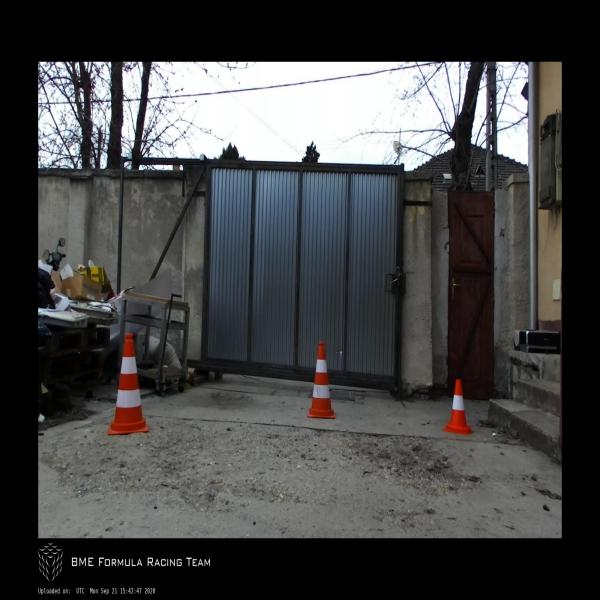large_orange_cone: (108, 334, 148, 434), (307, 342, 336, 418)
orange_cone: (442, 379, 475, 435)
